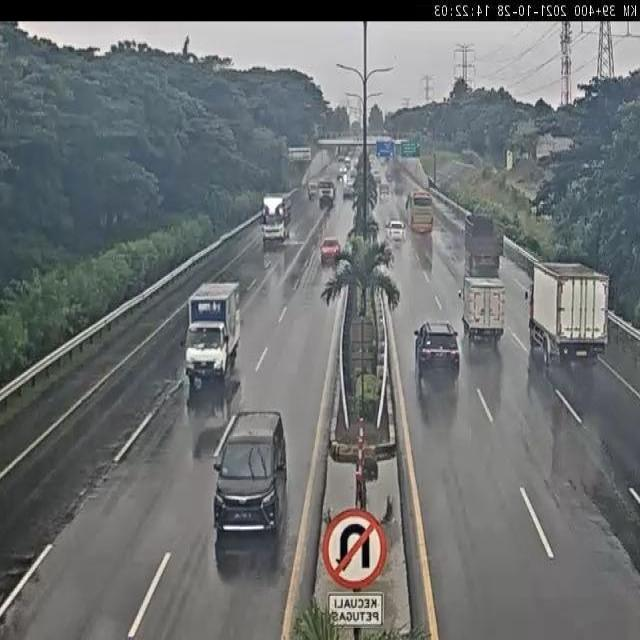Bus: (406, 190, 436, 233)
Car: (212, 411, 289, 536), (412, 320, 460, 384), (319, 236, 342, 266), (384, 220, 408, 242), (378, 183, 389, 196)
Truck: (528, 258, 610, 366), (184, 281, 242, 385), (457, 275, 507, 347), (461, 211, 506, 271), (260, 190, 294, 243), (318, 180, 336, 204), (308, 180, 318, 200)
